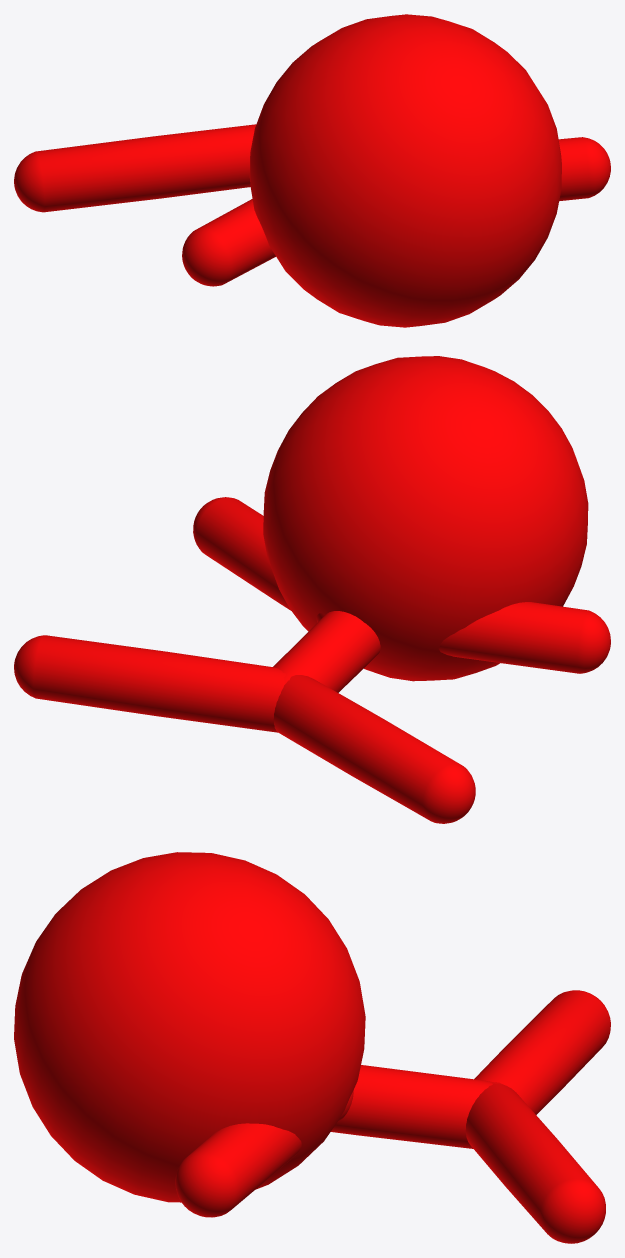
Rendered from StickMan_Sleep.obj.
3 renders of one model, top to bottom at view 1: azimuth 30°, elevation 25°; view 2: azimuth 150°, elevation 25°; view 3: azimuth 270°, elevation 25°, orthographic. The views are drawn at different scales.
Visible parts, largest first — view 1: 球.045, 球.003, 球.001, 球.046; view 2: 球.045, 球.002, 球.003, 球.001, 球.046, 球.047; view 3: 球.045, 球.002, 球.047, 球.003, 球.046.
Boxes of the visible parts, left/top/right/bottom form: 球.045: left=249, top=14, right=561, bottom=327; 球.003: left=14, top=124, right=256, bottom=212; 球.001: left=182, top=199, right=275, bottom=286; 球.046: left=558, top=137, right=610, bottom=201; 球.045: left=263, top=356, right=588, bottom=681; 球.002: left=14, top=635, right=285, bottom=732; 球.003: left=273, top=675, right=475, bottom=823; 球.001: left=316, top=602, right=610, bottom=673; 球.046: left=193, top=497, right=290, bottom=610; 球.047: left=273, top=611, right=380, bottom=692; 球.045: left=14, top=852, right=365, bottom=1202; 球.002: left=465, top=1083, right=605, bottom=1243; 球.047: left=331, top=1065, right=503, bottom=1148; 球.003: left=474, top=990, right=610, bottom=1114; 球.046: left=175, top=1123, right=301, bottom=1217.
Size of the model in its own units: 16.09 by 9.98 by 16.95.
